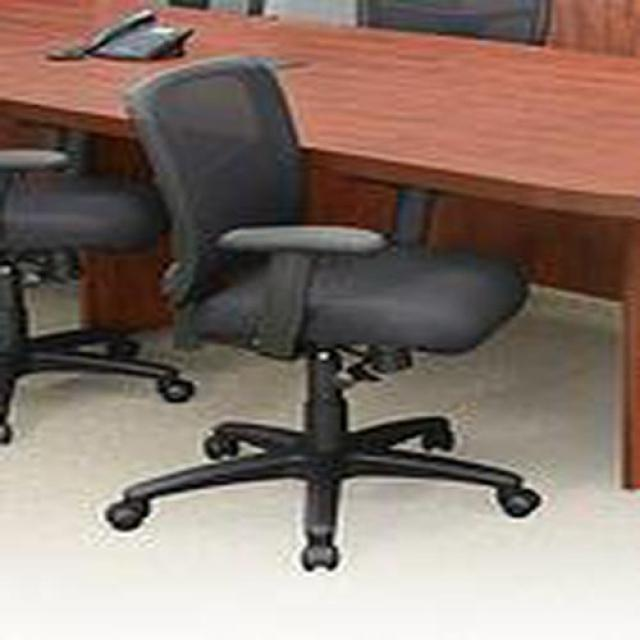swivelchair: (104, 56, 544, 575)
